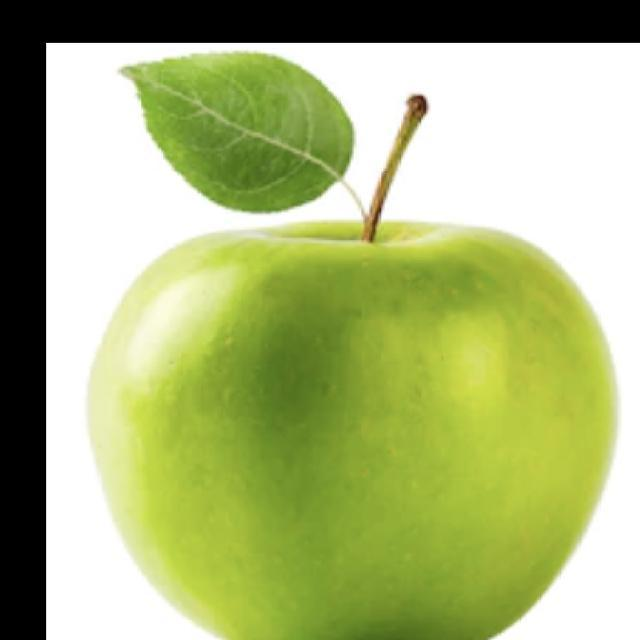Fresh Apple: (78, 50, 624, 640)
